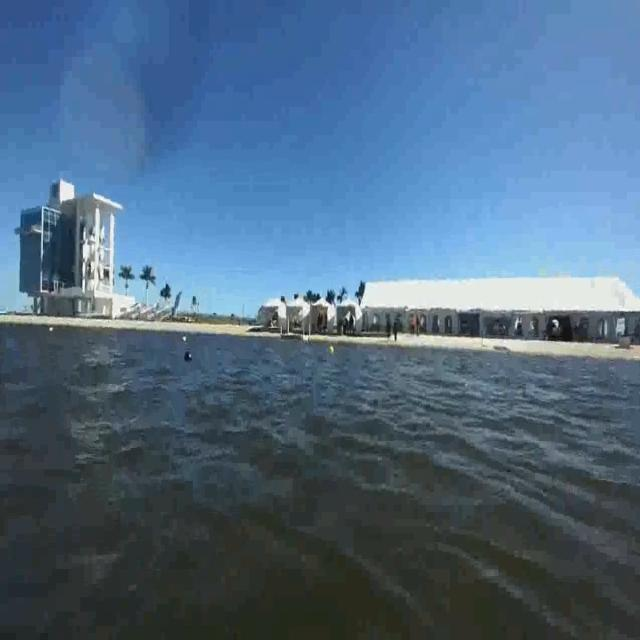yellow-buoy: (328, 345, 335, 356)
